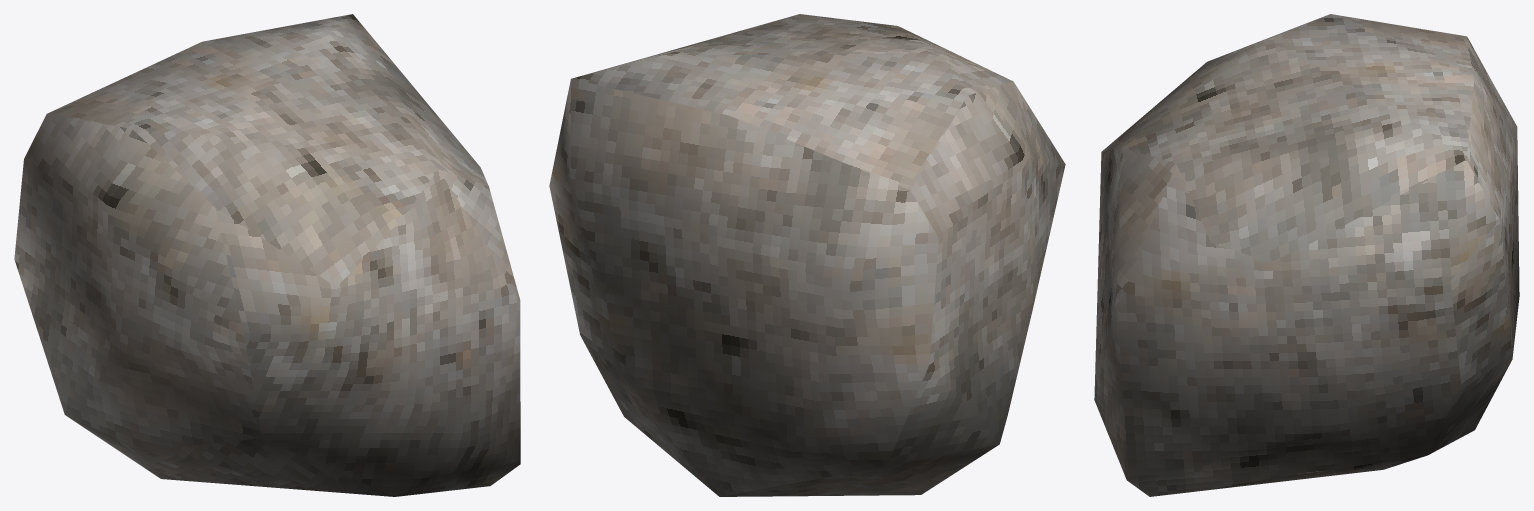
Rendered from rock_4.glb.
3 views of the same model, side by side, from view 1: azimuth 30°, elevation 25°; view 2: azimuth 150°, elevation 25°; view 3: azimuth 270°, elevation 25° (orthographic). The views are drawn at different scales.
Parts seen in each view (by area): view 1: rock 4; view 2: rock 4; view 3: rock 4.
Boxes of the visible parts, x1=… form: rock 4: x1=14, y1=14, x2=520, y2=496; rock 4: x1=549, y1=14, x2=1065, y2=496; rock 4: x1=1094, y1=14, x2=1519, y2=496.
Bounding box in the file's own units: 1.91 × 1.83 × 1.92.
1 material, 1 textured.
